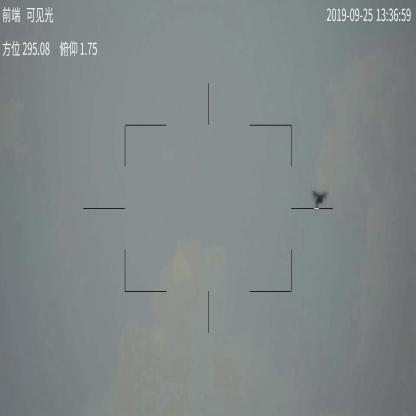uav: (309, 186, 331, 214)
